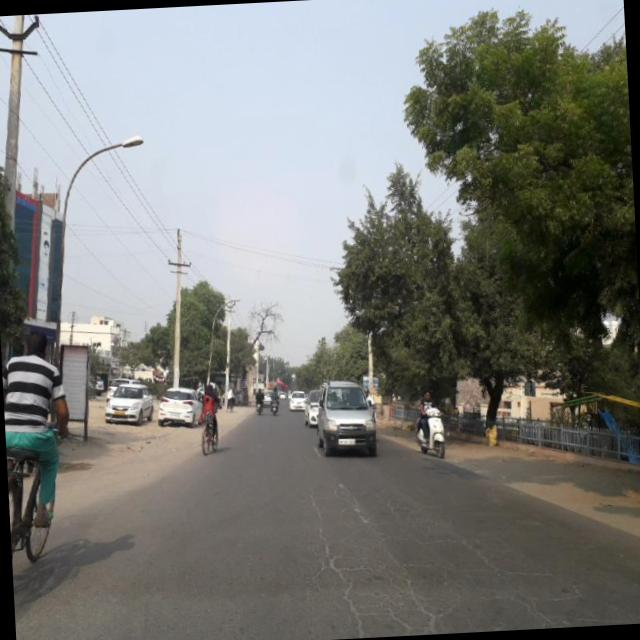crack: (301, 465, 568, 640)
